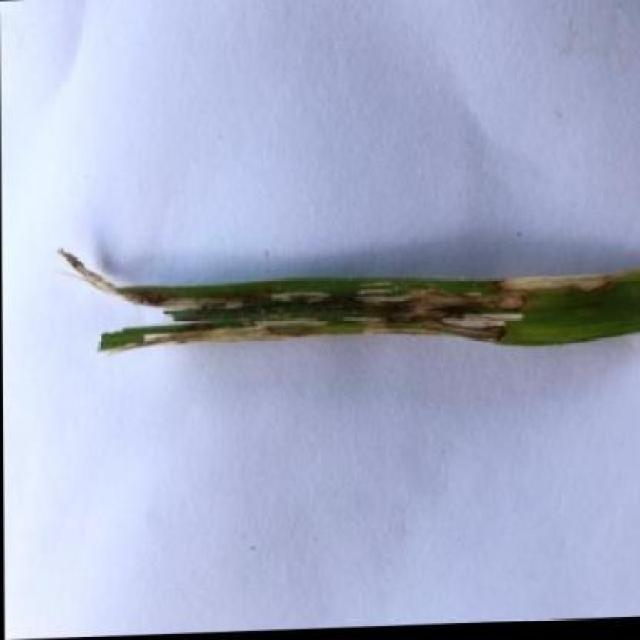Brown_Spot: (41, 223, 640, 368)
